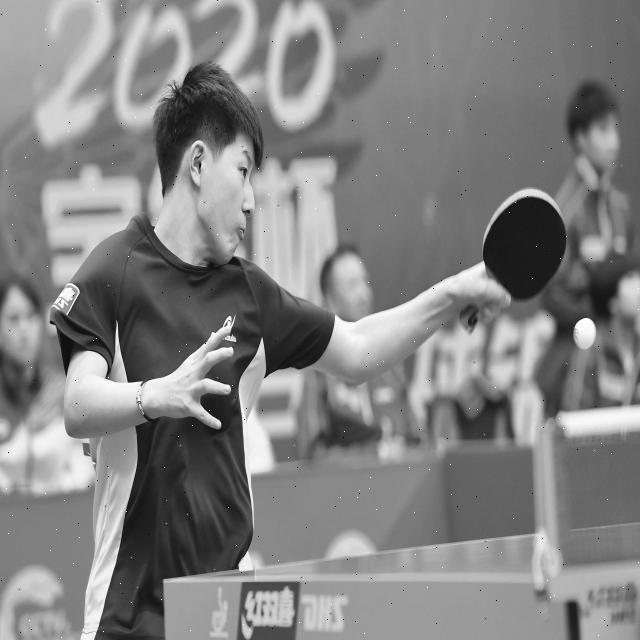ping-pong-ball: (572, 314, 598, 350)
